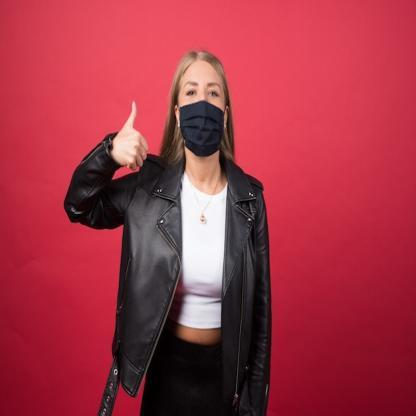thumb_up: (114, 99, 150, 174)
